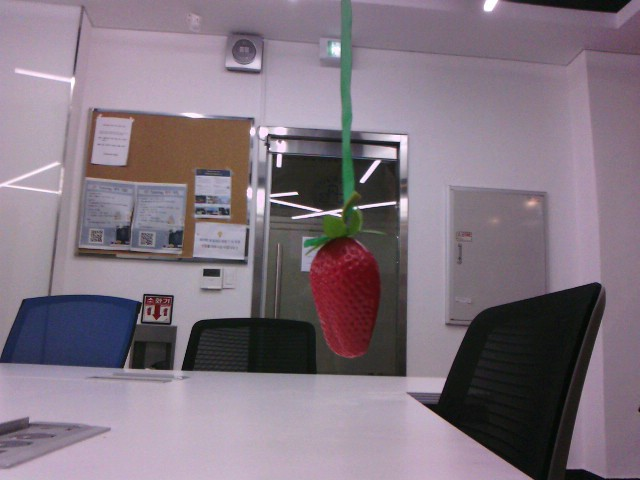strawberry: (303, 227, 391, 362)
